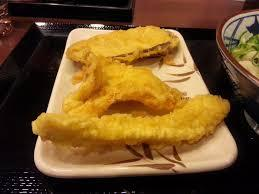satumaimo: (66, 25, 177, 63)
